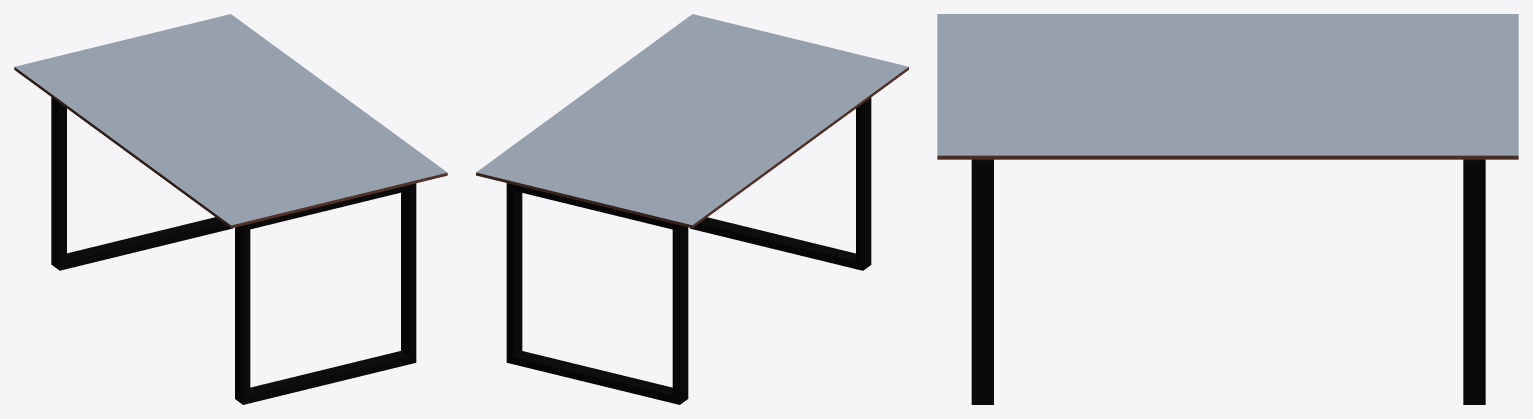
The model's file is BancoProfe.fbx.
3 renders of one model, left to right at view 1: azimuth 30°, elevation 25°; view 2: azimuth 150°, elevation 25°; view 3: azimuth 270°, elevation 25°, orthographic. The views are drawn at different scales.
Visible parts, largest first — view 1: BancoProfe; view 2: BancoProfe; view 3: BancoProfe.
Part boxes in pixels (<box>): BancoProfe: <box>14,14,447,404</box>; BancoProfe: <box>476,14,908,404</box>; BancoProfe: <box>937,14,1518,404</box>.
Bounding box in the file's own units: 75 × 64.49 × 130.
